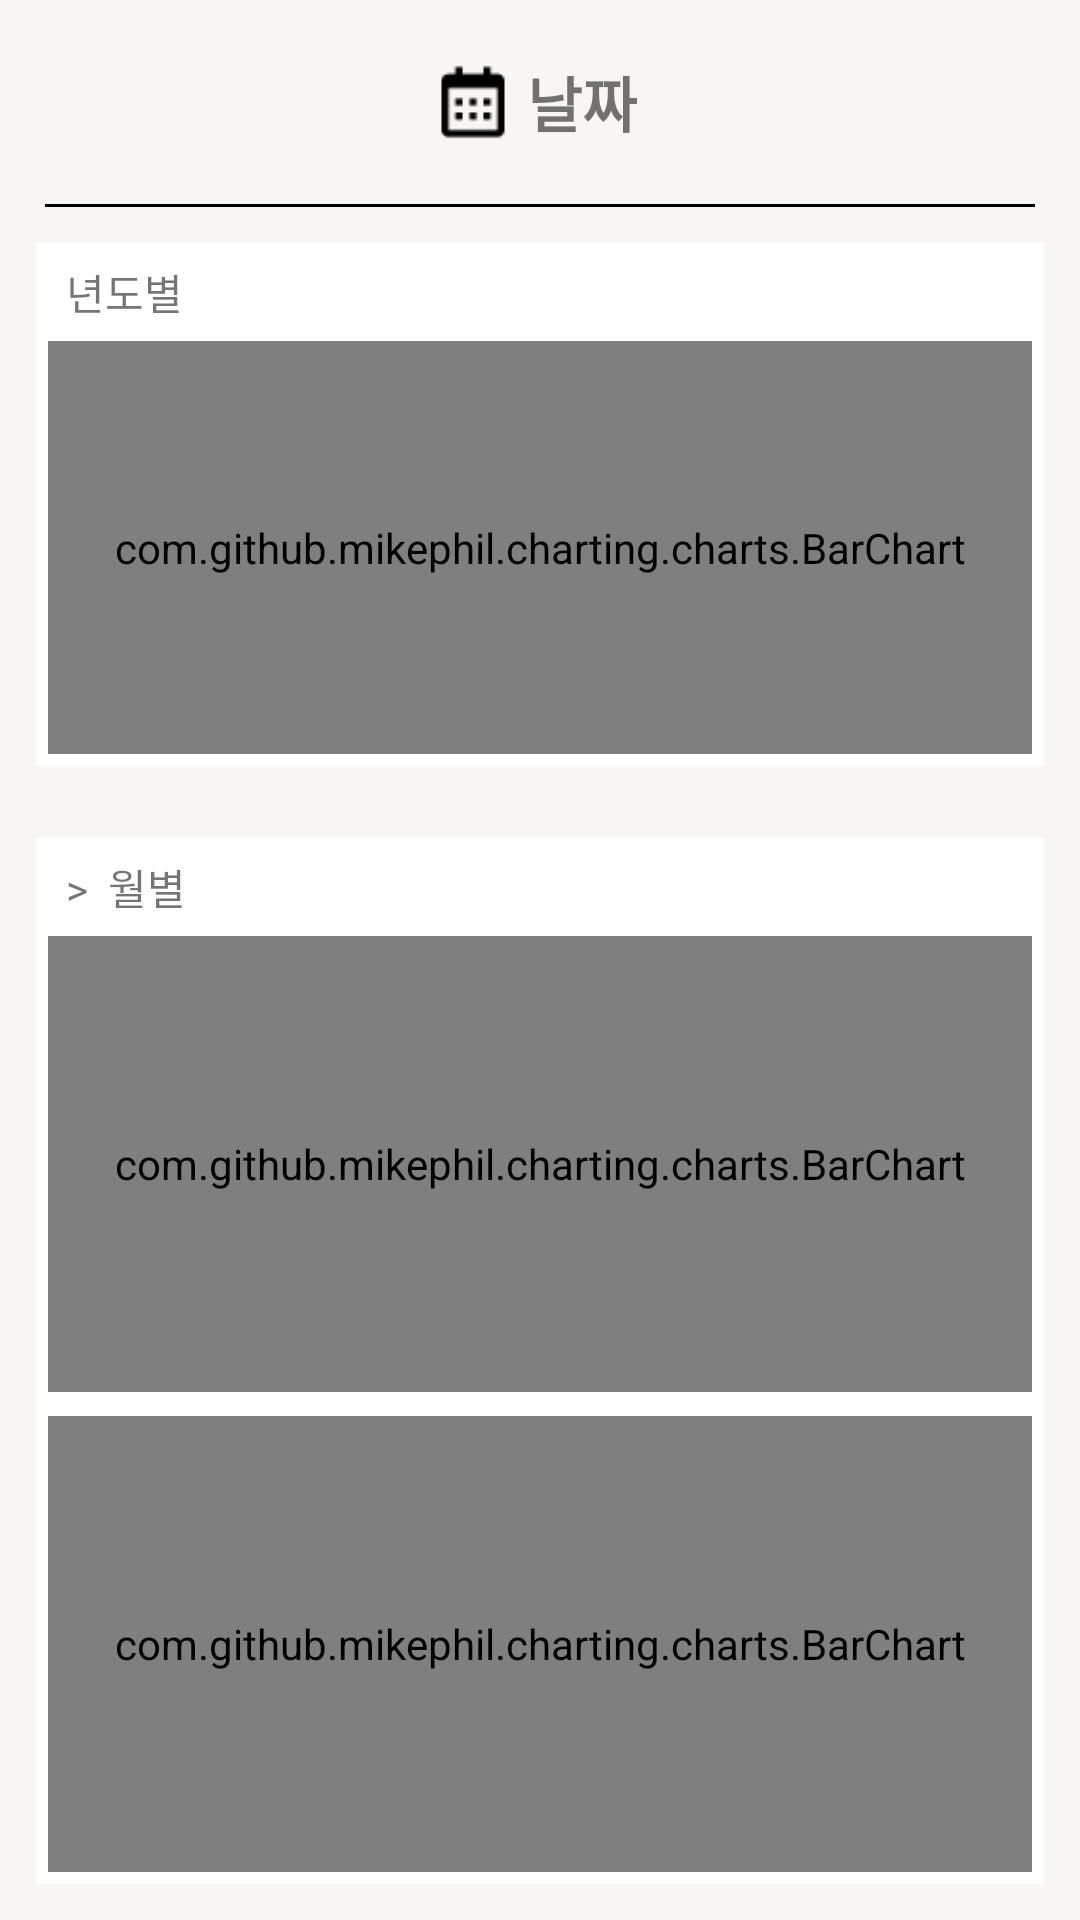

Icons on this 1080*1920 Android screen, each with its box as (x1, y1, x2, y2):
calendar: (441, 66, 505, 138)
